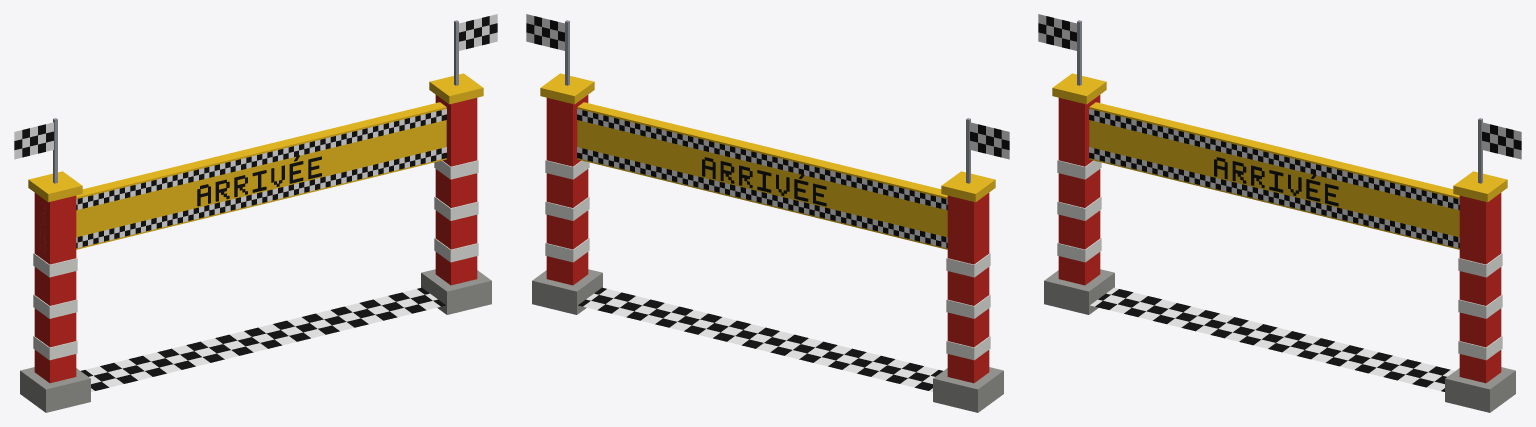
Rendered from Arrivee.obj.
The picture shows the model from 3 angles, left to right: view 1: azimuth 30°, elevation 25°; view 2: azimuth 150°, elevation 25°; view 3: azimuth 330°, elevation 25°; orthographic projection.
Parts seen in each view (by area): view 1: Arche_Arrivee, Ligne_Arrivee; view 2: Arche_Arrivee, Ligne_Arrivee; view 3: Arche_Arrivee, Ligne_Arrivee.
Boxes of the visible parts, box(x1,y1,x2,y2) form: Arche_Arrivee: box(14, 14, 497, 412); Ligne_Arrivee: box(81, 287, 445, 391); Arche_Arrivee: box(526, 14, 1009, 412); Ligne_Arrivee: box(578, 287, 942, 391); Arche_Arrivee: box(1038, 14, 1521, 412); Ligne_Arrivee: box(1090, 287, 1454, 391).
Bounding box in the file's own units: 18.32 × 10.1 × 1.7.
